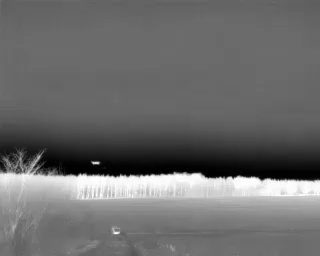DRONE: (88, 157, 104, 170)
